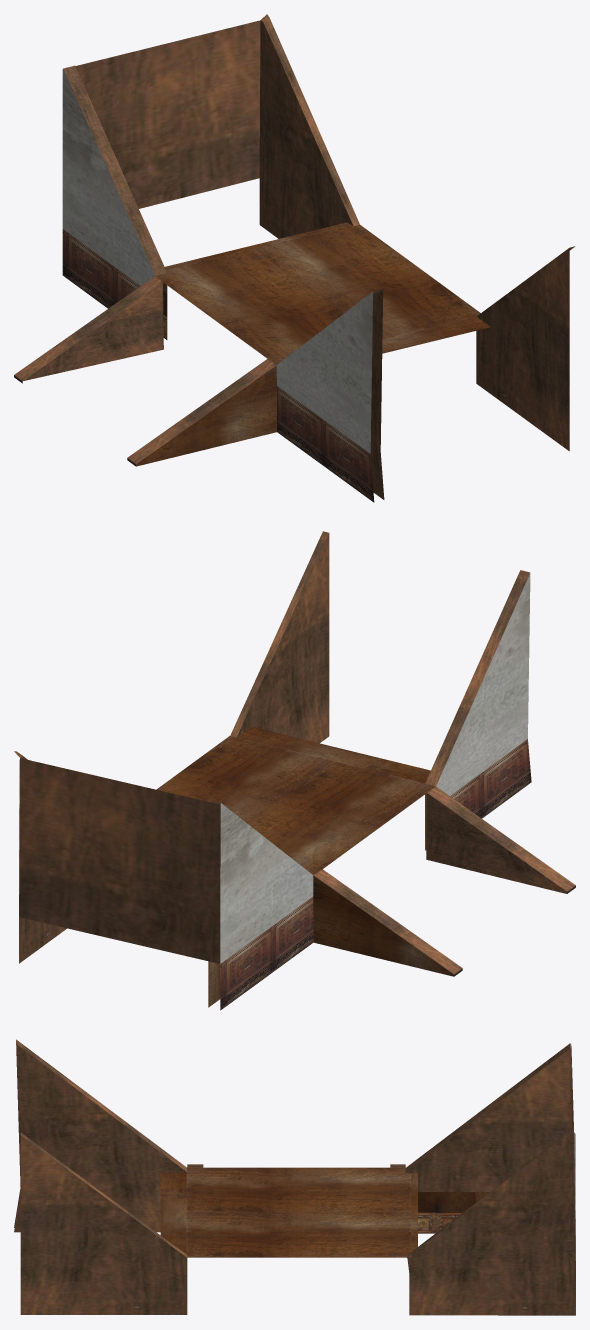
3 renders of one model, top to bottom at view 1: azimuth 30°, elevation 25°; view 2: azimuth 150°, elevation 25°; view 3: azimuth 270°, elevation 25°, orthographic. The views are drawn at different scales.
Visible parts, largest first — view 1: Box54; view 2: Box54; view 3: Box54.
Part boxes in pixels (box(x1,y1,x2,y2)): Box54: box(14, 14, 575, 502); Box54: box(14, 531, 575, 1010); Box54: box(14, 1039, 575, 1315).
Bounding box in the file's own units: 164 × 95.69 × 257.
